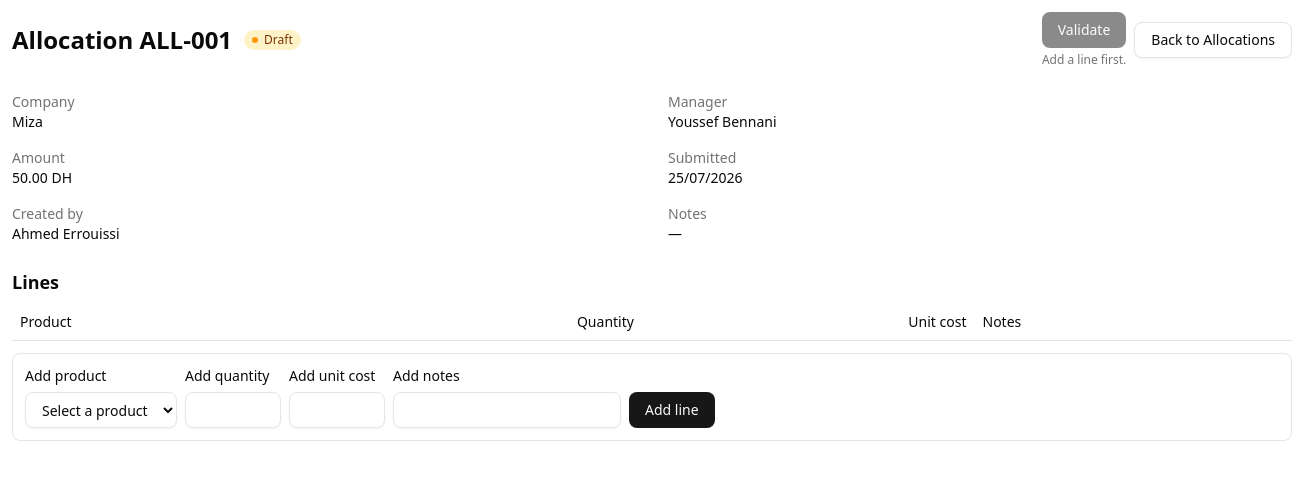
adding a line › shows domain-owned copy from the error-code registry on a duplicate product
Select "IAM 10 DH" in the dropdown labelled "Add product" at (101, 410), box [25, 392, 177, 428]
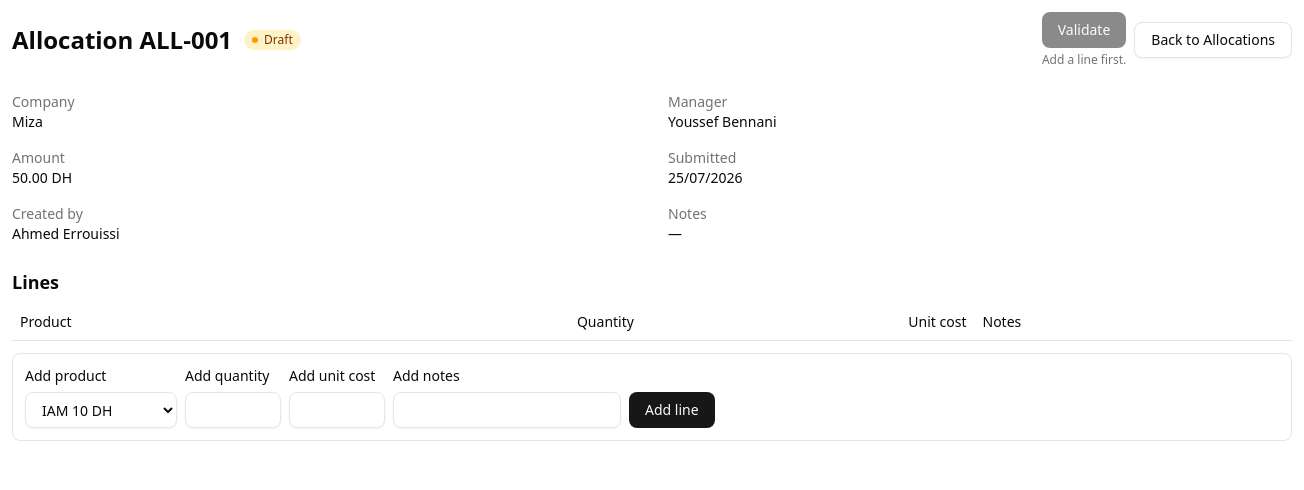
Type "5" into the field labelled "Add quantity" at (233, 410), box [185, 392, 281, 428]
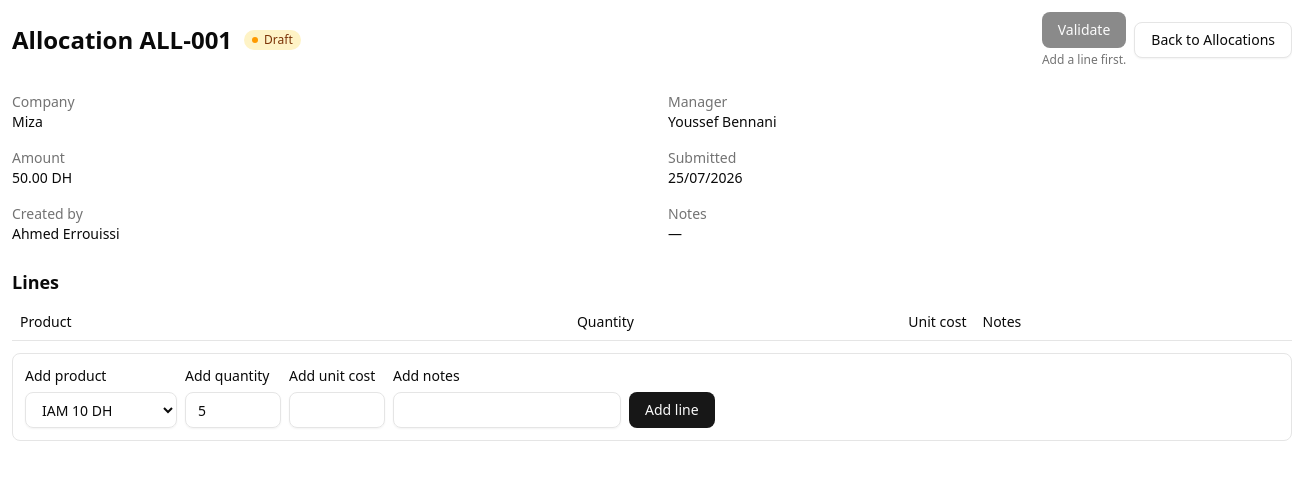
Type "10" into the field labelled "Add unit cost" at (337, 410), box [289, 392, 385, 428]
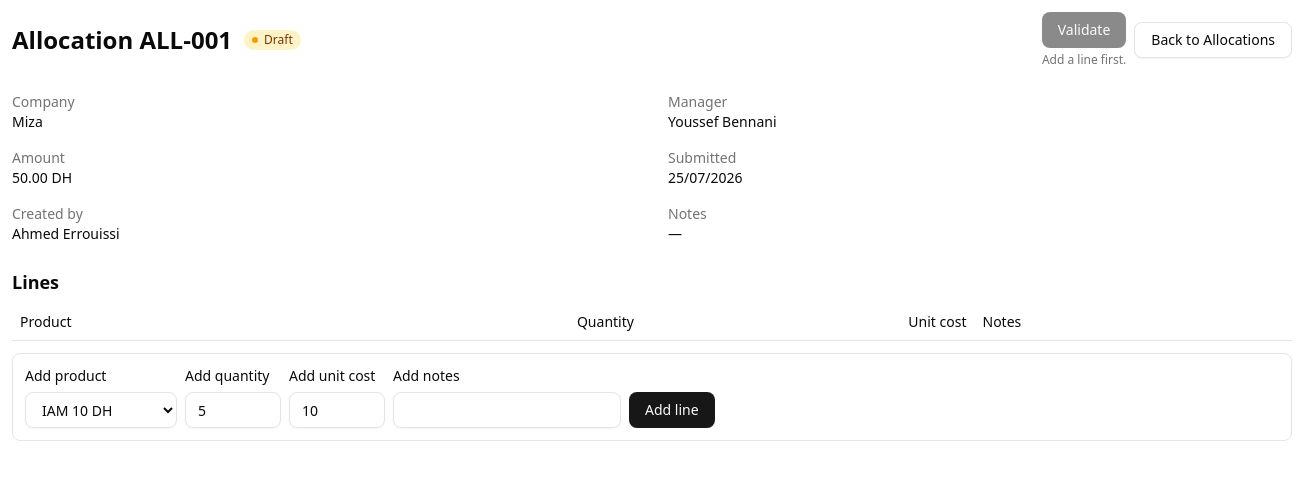
Click the button "Add line" at (672, 410), box [629, 392, 715, 428]
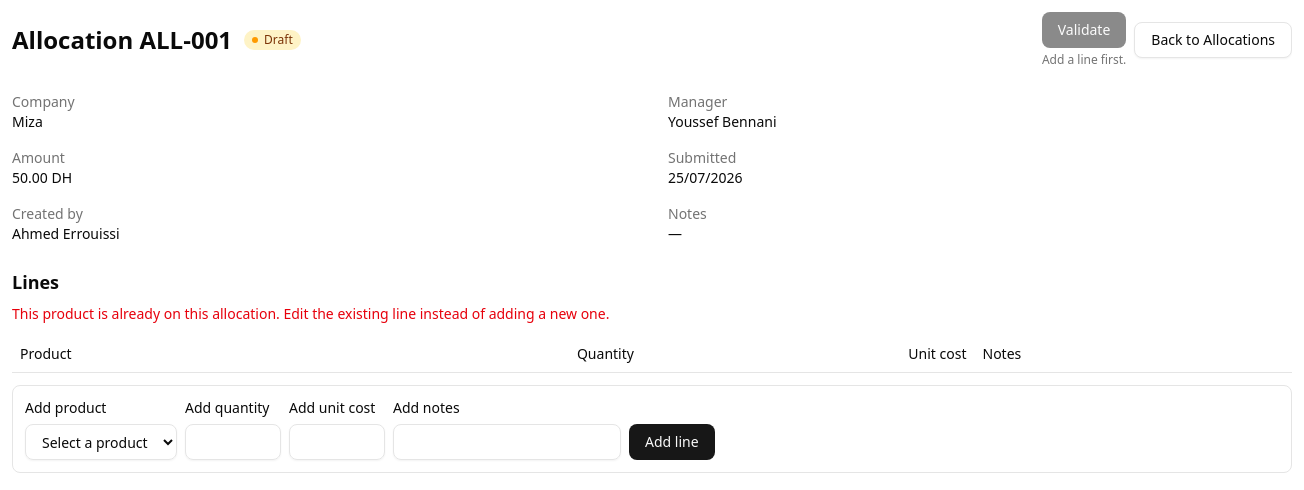
Expected: the text "This product is already on this allocation. Edit the existing line instead of adding a new one." is shown, [12, 304, 609, 323]
